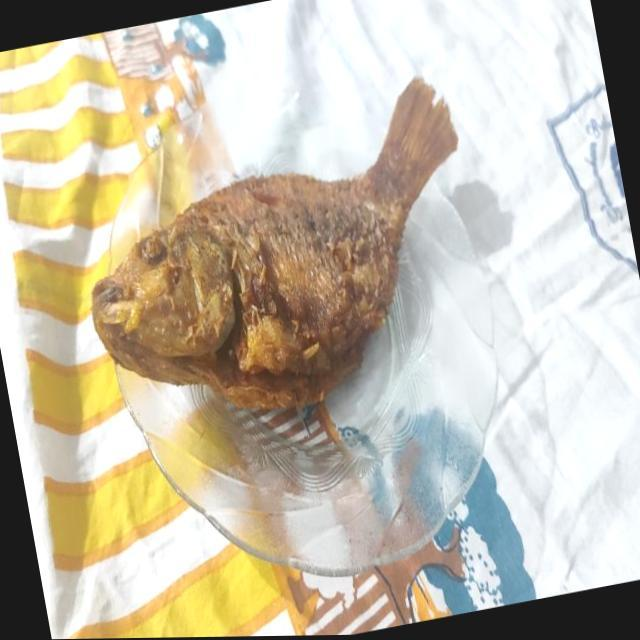ikan_mujair: (91, 80, 456, 408)
